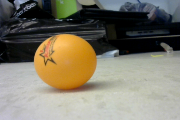PingPongBall: (34, 34, 97, 91)
